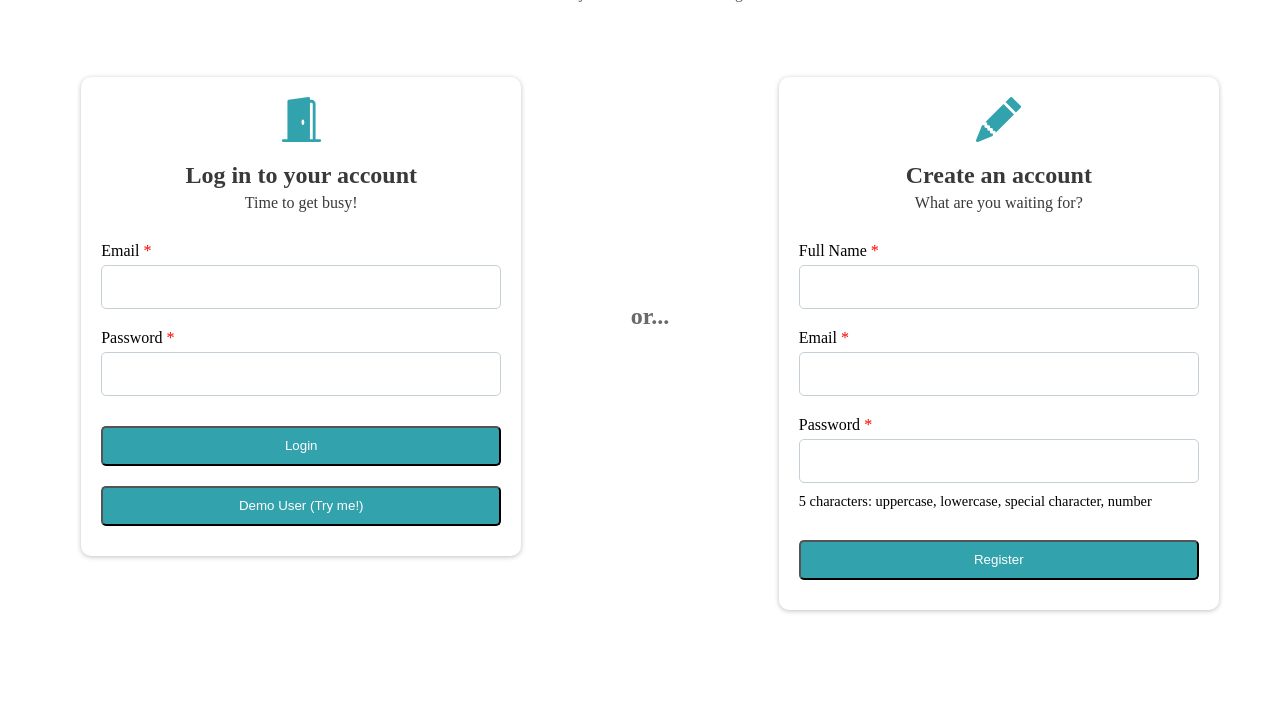
login page › shows loading on slow login w/ demo user
(page scrolled)
Click the button "Demo User (Try me!)" at (301, 506), box [101,486,501,526]
Wait 1100 ms
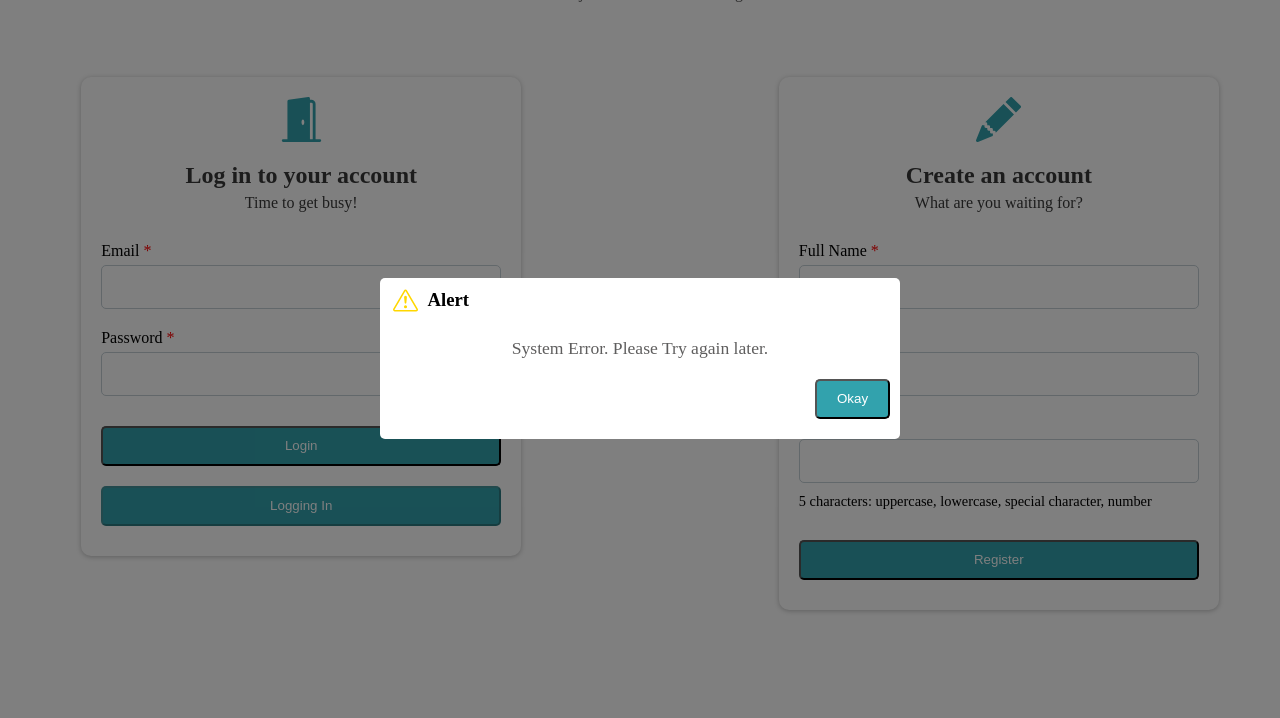
expect the button "Logging In" is shown: met, box [101,486,501,526]
expect the text "System Error. Please Try again later." is shown: met, box [512,338,768,358]
